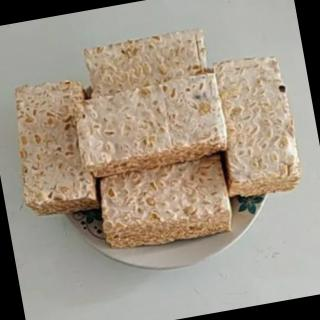Tempe: (1, 11, 313, 268)
